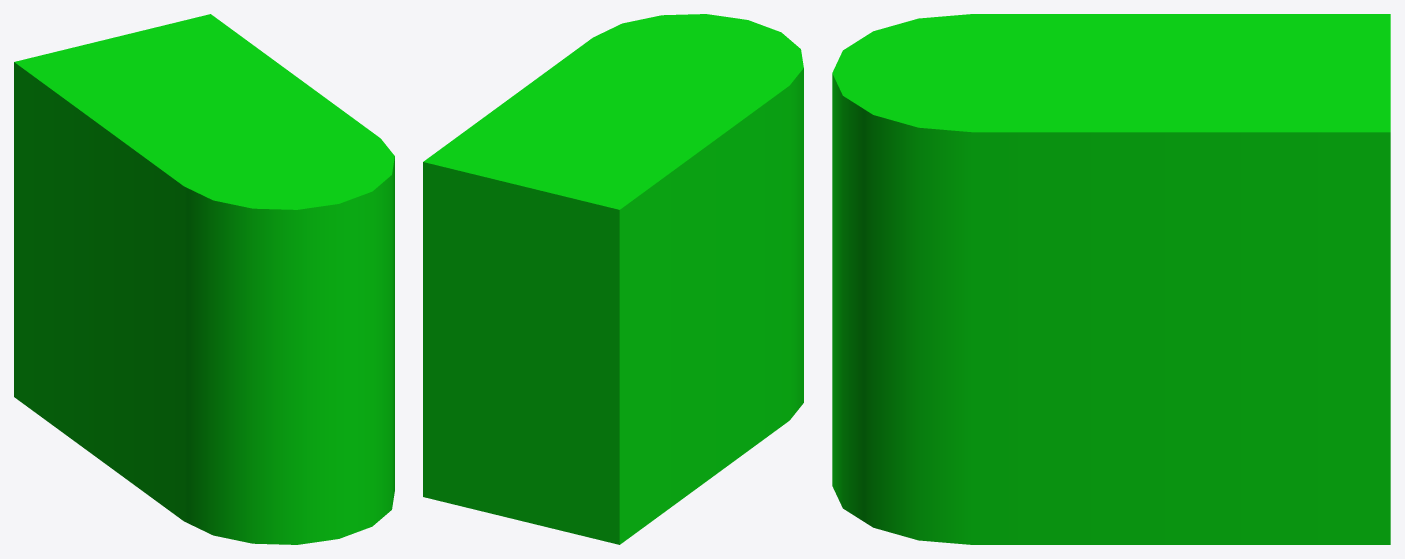
File: Pillar_part_8_wire_anchor.fbx
3 views of the same model, side by side, from view 1: azimuth 30°, elevation 25°; view 2: azimuth 150°, elevation 25°; view 3: azimuth 270°, elevation 25° (orthographic). The views are drawn at different scales.
Parts seen in each view (by area): view 1: Pillar_part_8_wire_anchor; view 2: Pillar_part_8_wire_anchor; view 3: Pillar_part_8_wire_anchor.
Boxes of the visible parts, x1=… form: Pillar_part_8_wire_anchor: x1=14, y1=14, x2=394, y2=544; Pillar_part_8_wire_anchor: x1=423, y1=14, x2=803, y2=544; Pillar_part_8_wire_anchor: x1=832, y1=14, x2=1390, y2=544.
Size of the model in its own units: 16.98 by 27.63 by 33.88.
